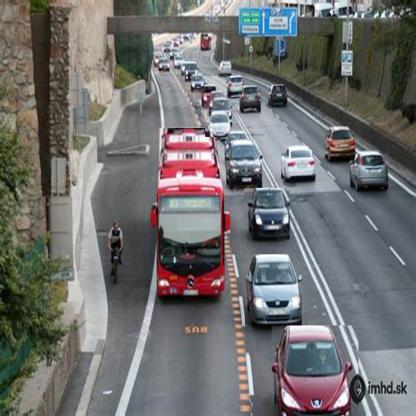bus: (159, 129, 222, 301), (200, 33, 213, 53)
car: (273, 326, 360, 416), (246, 255, 303, 327), (245, 189, 291, 241), (227, 141, 264, 189), (352, 155, 390, 191), (327, 127, 356, 167), (282, 151, 314, 181), (206, 111, 231, 138), (239, 87, 262, 116), (269, 86, 290, 110), (209, 99, 232, 112), (229, 77, 243, 98), (219, 60, 233, 76), (192, 74, 204, 89), (187, 66, 198, 80), (203, 88, 212, 105), (160, 60, 170, 72), (176, 58, 184, 69)
